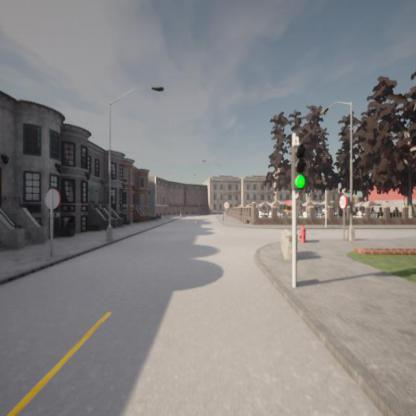traffic_light_green: (292, 145, 306, 190)
